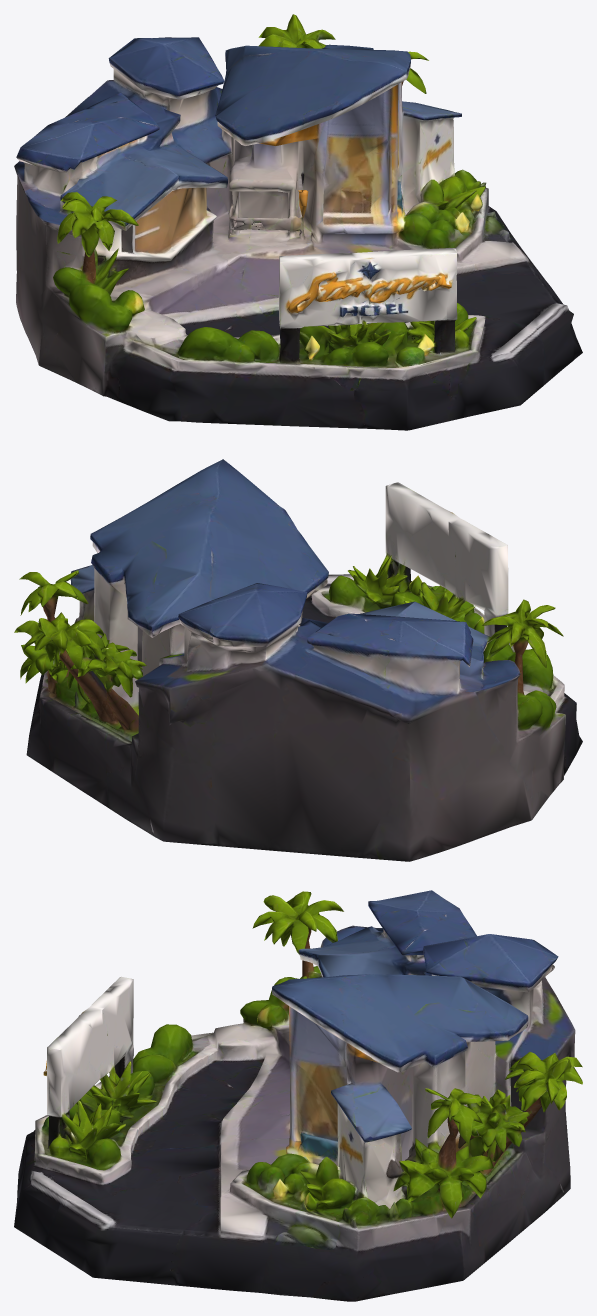
The model's file is stargazer.glb.
3 views of the same model, one above another, from view 1: azimuth 30°, elevation 25°; view 2: azimuth 150°, elevation 25°; view 3: azimuth 270°, elevation 25° (orthographic). The views are drawn at different scales.
Bounding box in the file's own units: 1.84 × 0.9009 × 1.88.
Materials: 1 (1 with a texture image).
